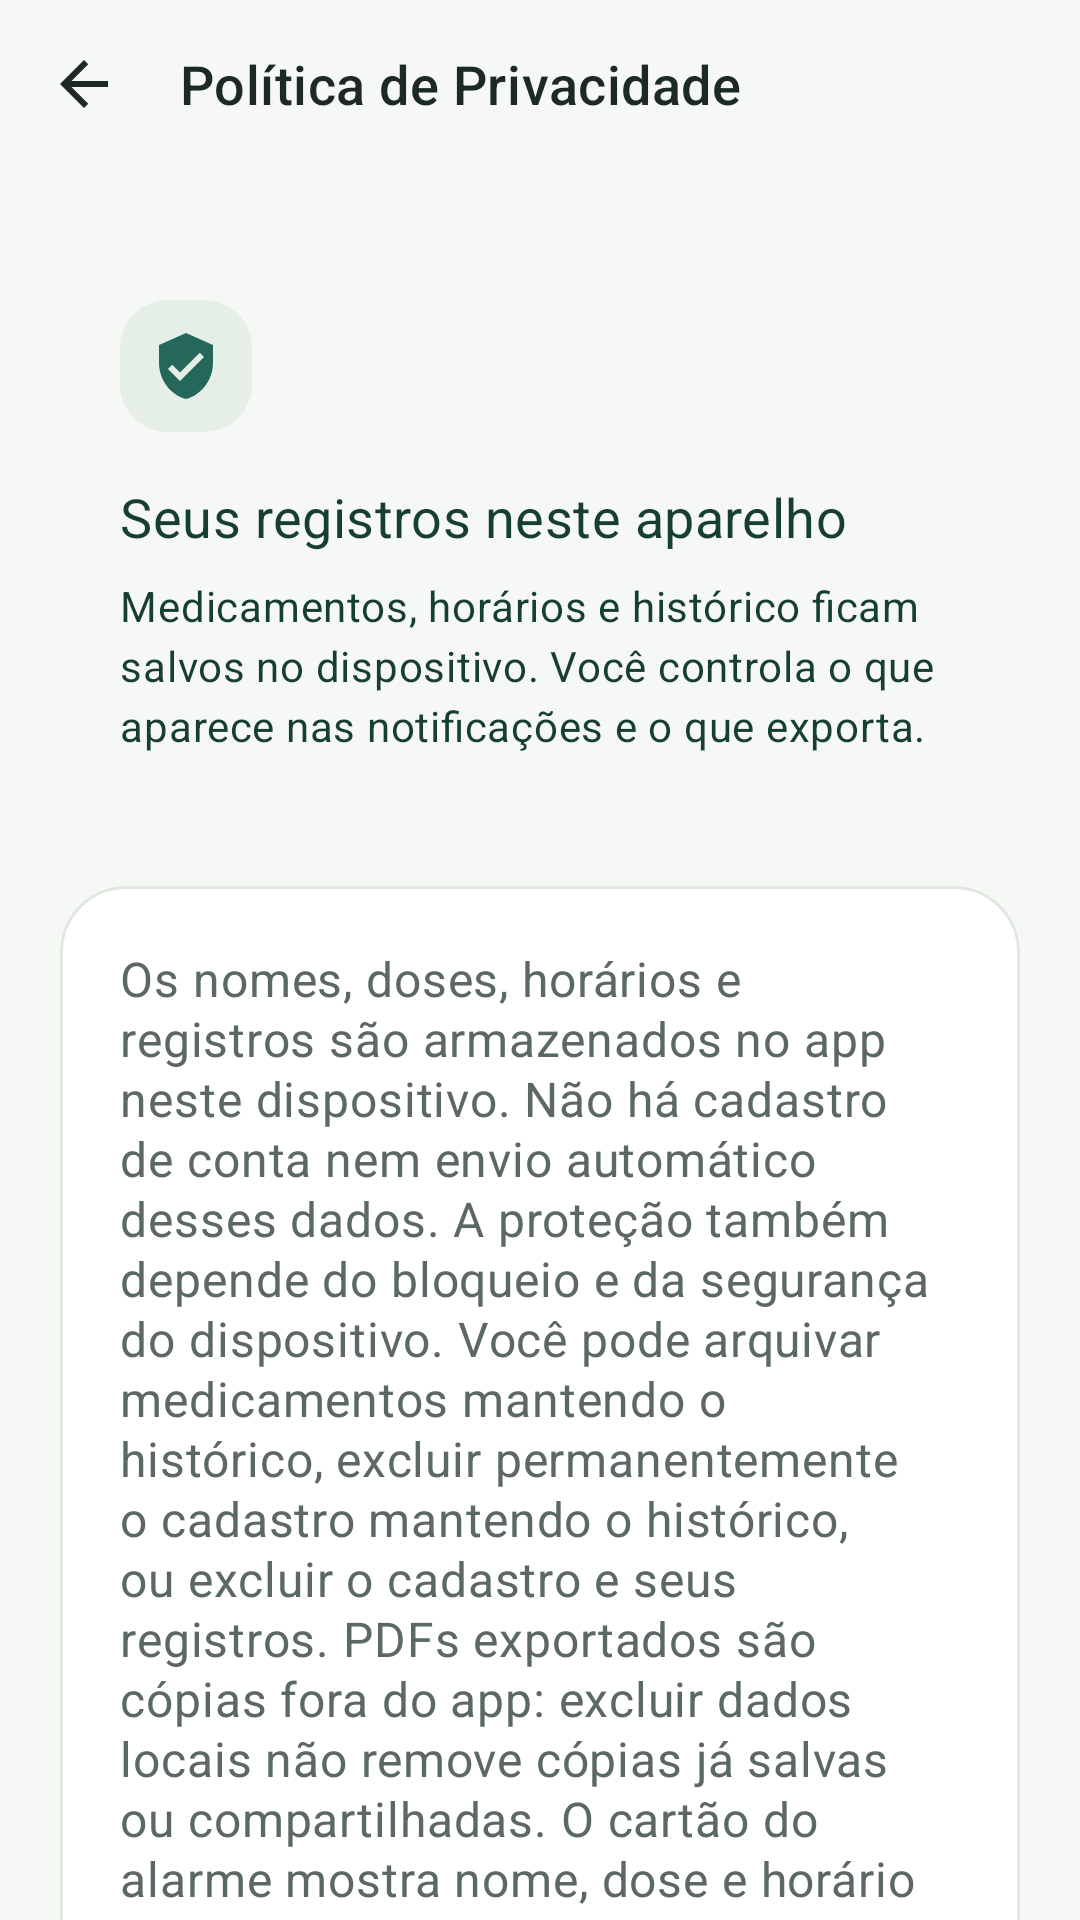

Icons on this 1080*1920 Android screen, each with the point to tap as (x=x, y=y):
shield privacy: (x=186, y=366)
